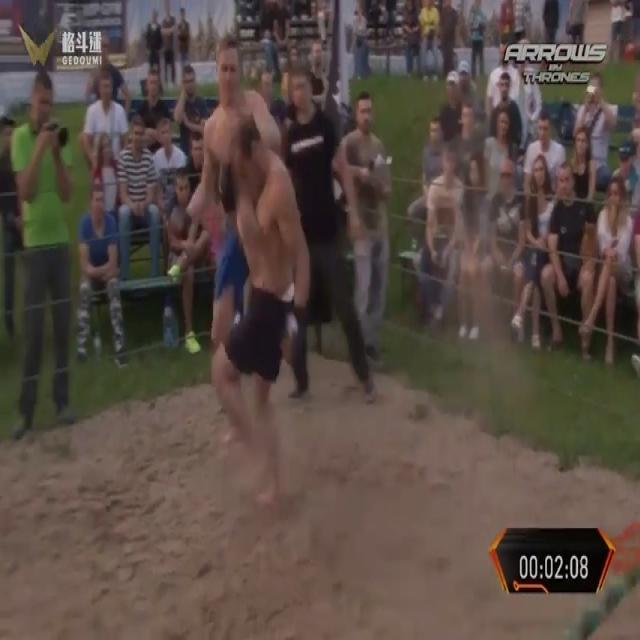fight: (185, 22, 312, 505)
non-fight: (276, 53, 383, 410), (6, 66, 86, 438), (579, 168, 634, 367), (506, 152, 560, 349), (168, 59, 210, 165)
